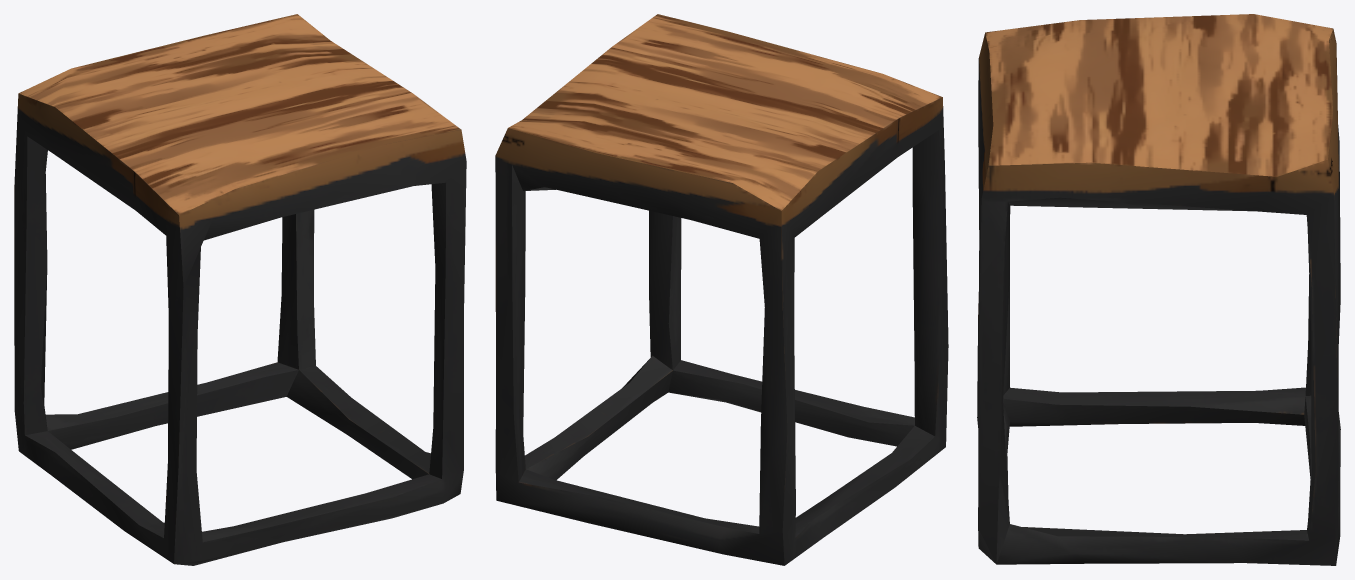
File: brickloft-welded-side-table.glb
3 views of the same model, side by side, from view 1: azimuth 30°, elevation 25°; view 2: azimuth 150°, elevation 25°; view 3: azimuth 270°, elevation 25° (orthographic). The views are drawn at different scales.
Parts seen in each view (by area): view 1: geometry_0; view 2: geometry_0; view 3: geometry_0.
Part boxes in pixels (x1=…): geometry_0: x1=14, y1=14, x2=466, y2=565; geometry_0: x1=495, y1=14, x2=948, y2=565; geometry_0: x1=977, y1=14, x2=1340, y2=565.
Size of the model in its own units: 0.821 by 1 by 0.8126.
1 material, 1 textured.
